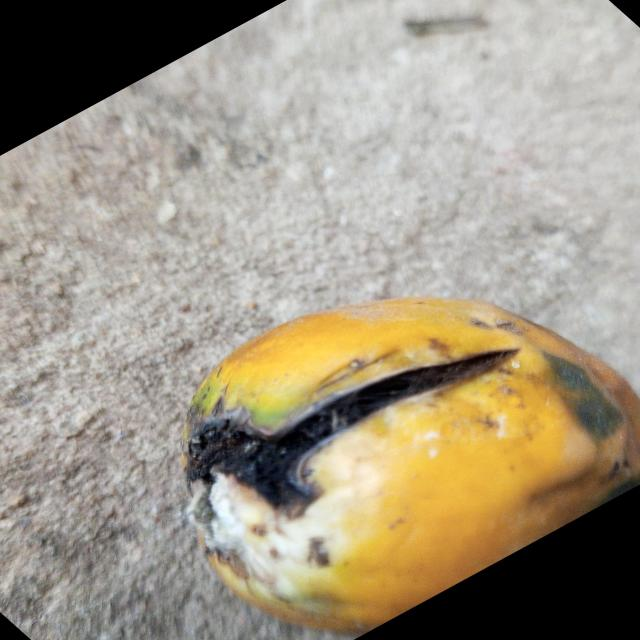damaged: (184, 297, 640, 640)
